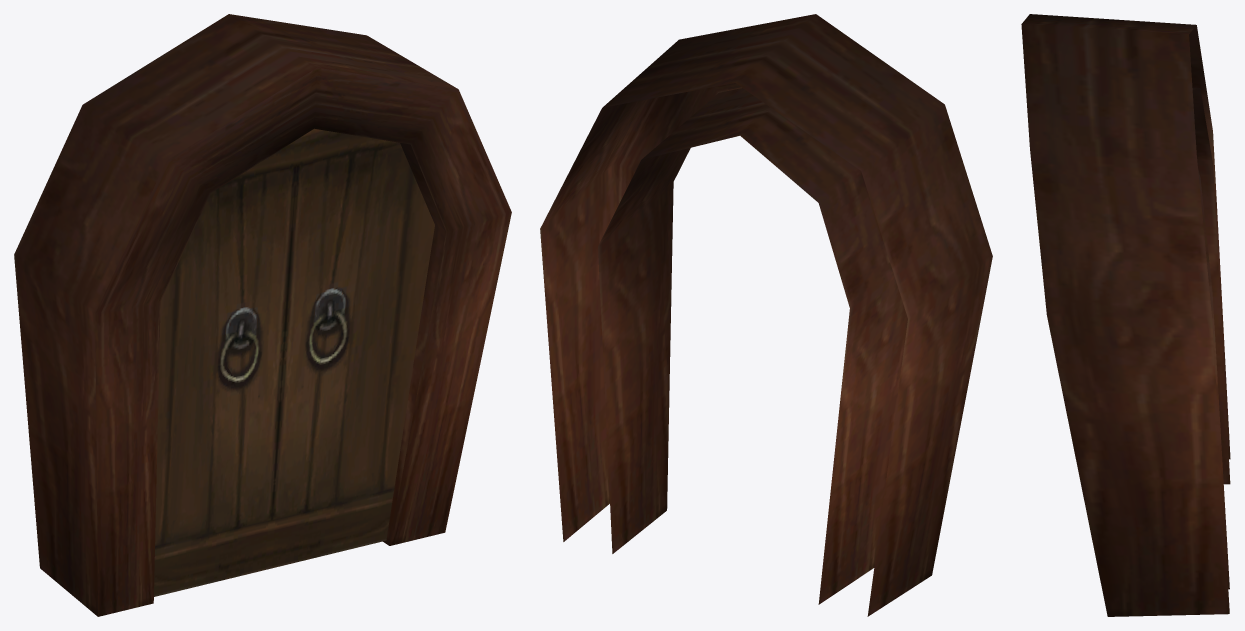
The model's file is environment_common_mumen_001_a.FBX.
3 renders of one model, left to right at view 1: azimuth 30°, elevation 25°; view 2: azimuth 150°, elevation 25°; view 3: azimuth 270°, elevation 25°, orthographic. The views are drawn at different scales.
Visible parts, largest first — view 1: environment_common_mumen_001_b, environment_common_mumen_001_a; view 2: environment_common_mumen_001_b; view 3: environment_common_mumen_001_b.
Part boxes in pixels (bbox=[...]): environment_common_mumen_001_b: bbox=[14, 14, 511, 616]; environment_common_mumen_001_a: bbox=[154, 128, 434, 596]; environment_common_mumen_001_b: bbox=[540, 14, 992, 616]; environment_common_mumen_001_b: bbox=[1021, 14, 1230, 616].
Size of the model in its own units: 111 by 138 by 50.87.
